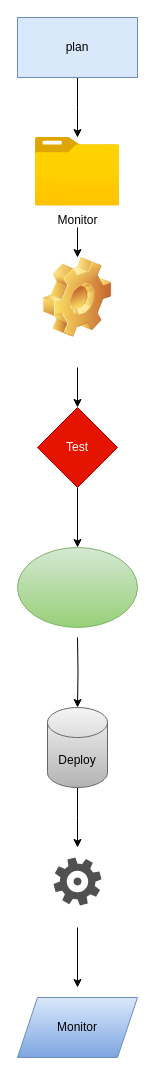
The diagram is 155 pixels wide and 1075 high, and some of its shapes have lost their labels. The shapes that lost their labels are listed below. From the top down, each one's centre as x and y in pixels, then its label:
point 77,297: Build
point 77,587: Release
point 77,881: Operate
